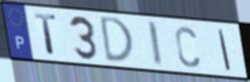3: (67, 13, 100, 61)
C: (173, 25, 202, 69)
D: (99, 15, 136, 64)
I: (146, 19, 165, 68), (217, 28, 233, 73)
T: (32, 12, 59, 57)
